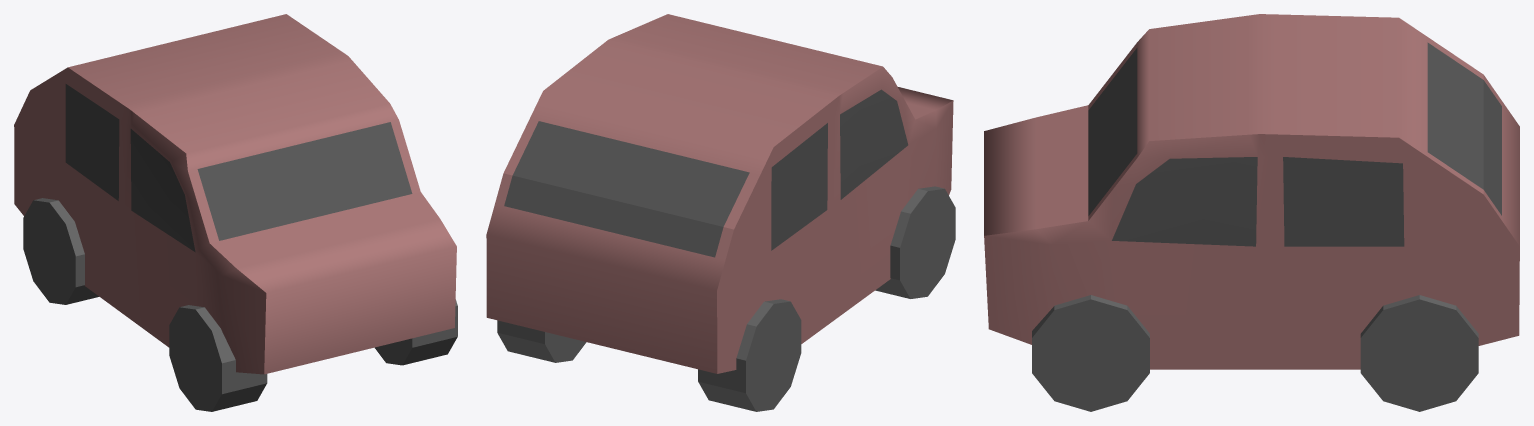
File: Car_FBX.fbx
The picture shows the model from 3 angles, left to right: view 1: azimuth 30°, elevation 25°; view 2: azimuth 150°, elevation 25°; view 3: azimuth 270°, elevation 25°; orthographic projection. The views are drawn at different scales.
Visible parts, largest first — view 1: C_Body, C_Wheel_BR, C_Wheel_FR, C_Wheel_BL; view 2: C_Body, C_Wheel_FR, C_Wheel_BR, C_Wheel_FL; view 3: C_Body, C_Wheel_FL, C_Wheel_BL.
Part boxes in pixels (x1,y1,x2,y2): C_Body: [14, 14, 456, 374]; C_Wheel_BR: [169, 305, 267, 411]; C_Wheel_FR: [23, 198, 98, 304]; C_Wheel_BL: [375, 299, 457, 365]; C_Body: [486, 14, 953, 373]; C_Wheel_FR: [698, 299, 801, 411]; C_Wheel_BR: [875, 186, 955, 298]; C_Wheel_FL: [497, 320, 586, 362]; C_Body: [984, 14, 1519, 369]; C_Wheel_FL: [1360, 295, 1478, 411]; C_Wheel_BL: [1032, 295, 1149, 411].
Bounding box in the file's own units: 1.73 × 1.7 × 3.02.
